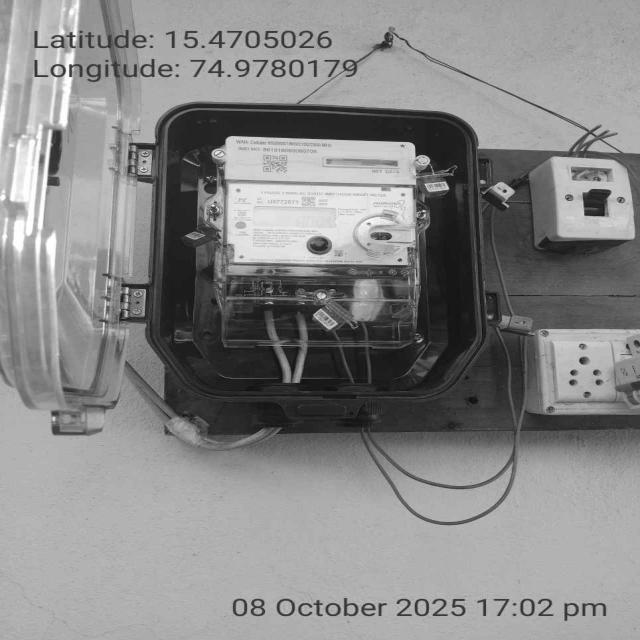meter: (228, 132, 414, 269)
